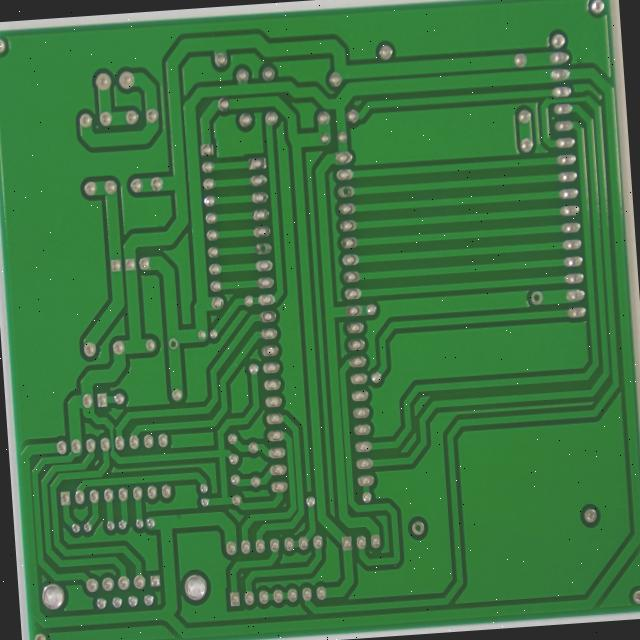missing_hole: (522, 304, 543, 328), (236, 254, 257, 276), (324, 194, 344, 214), (400, 550, 420, 570), (148, 356, 162, 374)
